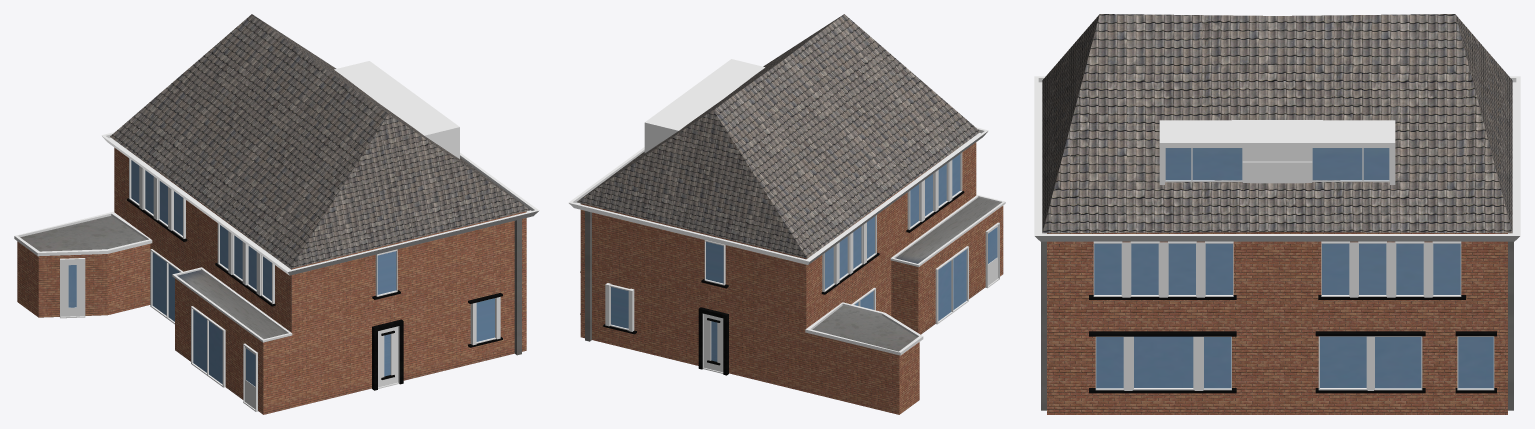
File: Greide 18 en 20.fbx
3 renders of one model, left to right at view 1: azimuth 30°, elevation 25°; view 2: azimuth 150°, elevation 25°; view 3: azimuth 270°, elevation 25°, orthographic. The views are drawn at different scales.
Visible parts, largest first — view 1: Greide_18_en_20; view 2: Greide_18_en_20; view 3: Greide_18_en_20.
Part boxes in pixels (x1,y1,x2,y2): Greide_18_en_20: [14, 14, 539, 414]; Greide_18_en_20: [568, 14, 1005, 414]; Greide_18_en_20: [1034, 14, 1520, 414].
Size of the model in its own units: 14.56 by 10.21 by 13.75.
